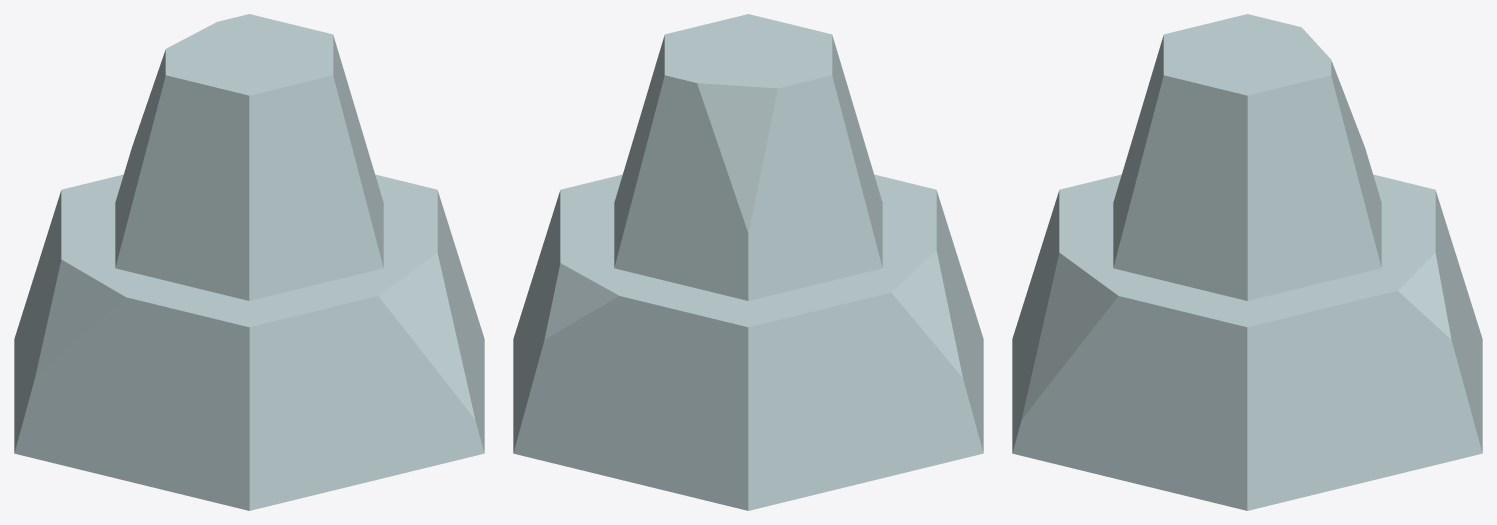
The model's file is stone_smallF.gltf.
3 views of the same model, side by side, from view 1: azimuth 30°, elevation 25°; view 2: azimuth 150°, elevation 25°; view 3: azimuth 270°, elevation 25° (orthographic).
Visible parts, largest first — view 1: stone_smallF; view 2: stone_smallF; view 3: stone_smallF.
Boxes of the visible parts, left/top/right/bottom form: stone_smallF: left=14, top=14, right=484, bottom=510; stone_smallF: left=513, top=14, right=983, bottom=510; stone_smallF: left=1012, top=14, right=1482, bottom=510.
Size of the model in its own units: 0.3536 by 0.2453 by 0.3062.
